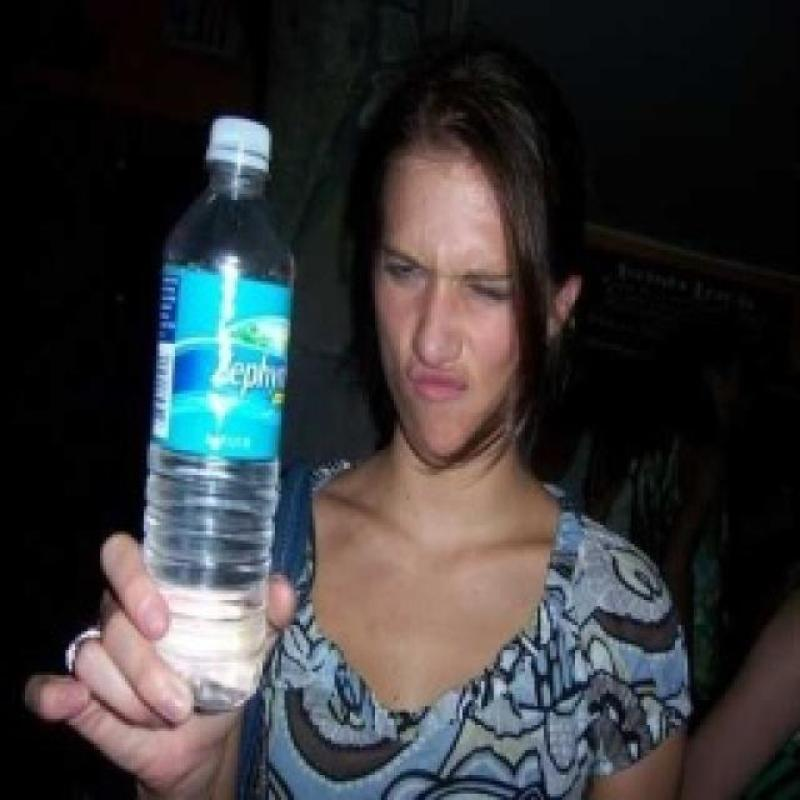botella: (154, 117, 294, 705)
